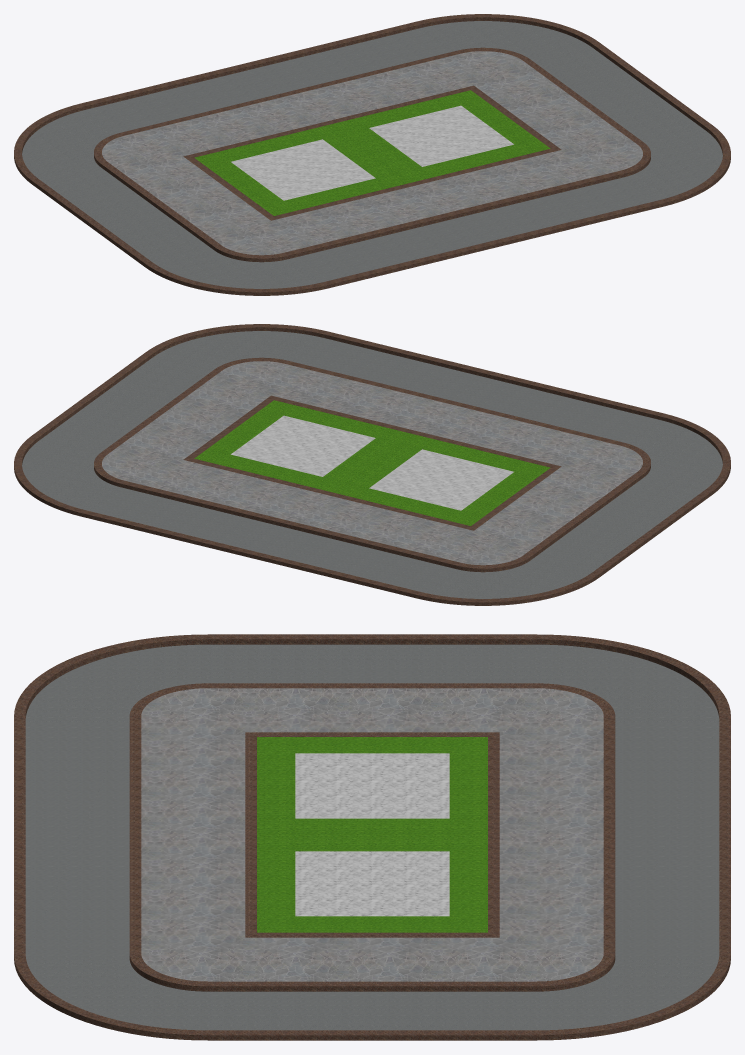
The picture shows the model from 3 angles, top to bottom: view 1: azimuth 30°, elevation 25°; view 2: azimuth 150°, elevation 25°; view 3: azimuth 270°, elevation 25°; orthographic projection. The views are drawn at different scales.
Parts seen in each view (by area): view 1: 2) Model - 2.dwg; view 2: 2) Model - 2.dwg; view 3: 2) Model - 2.dwg.
Boxes of the visible parts, x1,y1,x2,y2 form: 2) Model - 2.dwg: (14,14,730,295); 2) Model - 2.dwg: (14,324,730,605); 2) Model - 2.dwg: (14,634,730,1040).
Bounding box in the file's own units: 24.6 × 0.15 × 18.6.
300 materials, 300 textured.
